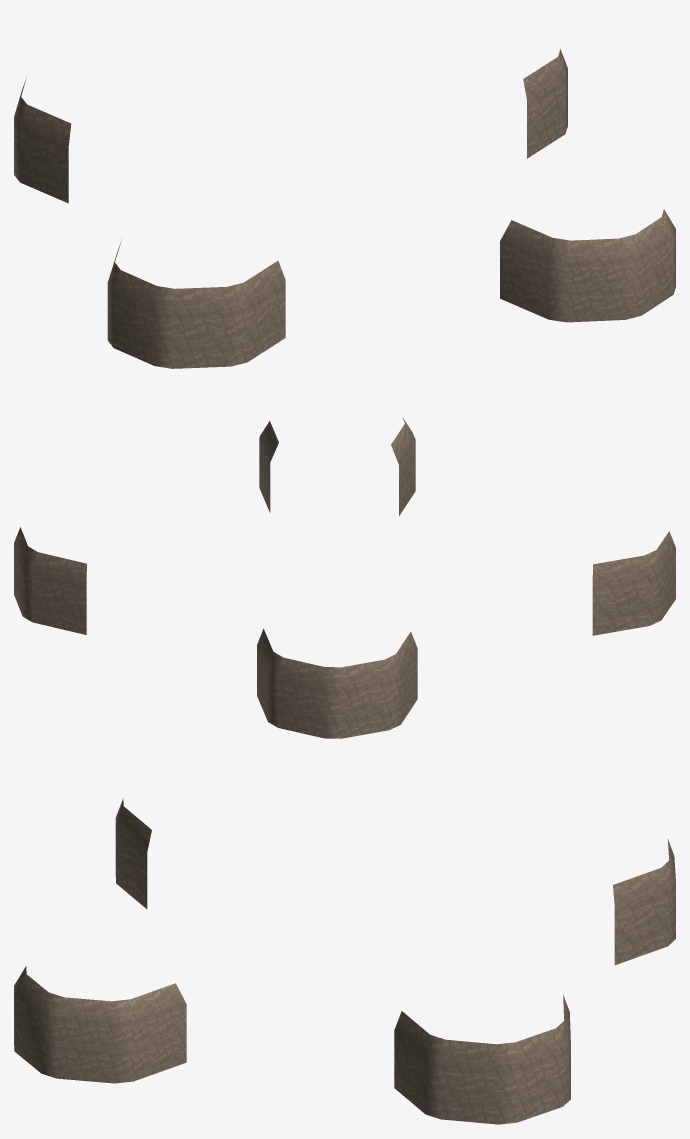
File: kd_stage_1366d7_10_1.glb
The picture shows the model from 3 angles, top to bottom: view 1: azimuth 30°, elevation 25°; view 2: azimuth 150°, elevation 25°; view 3: azimuth 270°, elevation 25°; orthographic projection. The views are drawn at different scales.
Parts seen in each view (by area): view 1: kd_stage_1366d7_10_1; view 2: kd_stage_1366d7_10_1; view 3: kd_stage_1366d7_10_1.
Part boxes in pixels (x1=…): kd_stage_1366d7_10_1: x1=14, y1=49, x2=675, y2=368; kd_stage_1366d7_10_1: x1=14, y1=417, x2=675, y2=738; kd_stage_1366d7_10_1: x1=14, y1=798, x2=675, y2=1124.
Bounding box in the file's own units: 314 × 40 × 311.
1 material, 1 textured.
